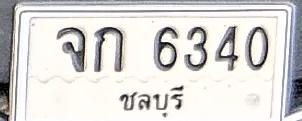0: (245, 25, 269, 70)
3: (184, 26, 208, 70)
4: (215, 25, 239, 71)
6: (154, 26, 179, 71)
A01: (94, 26, 126, 72)
A08: (56, 26, 86, 72)
CBI: (116, 81, 193, 119)
